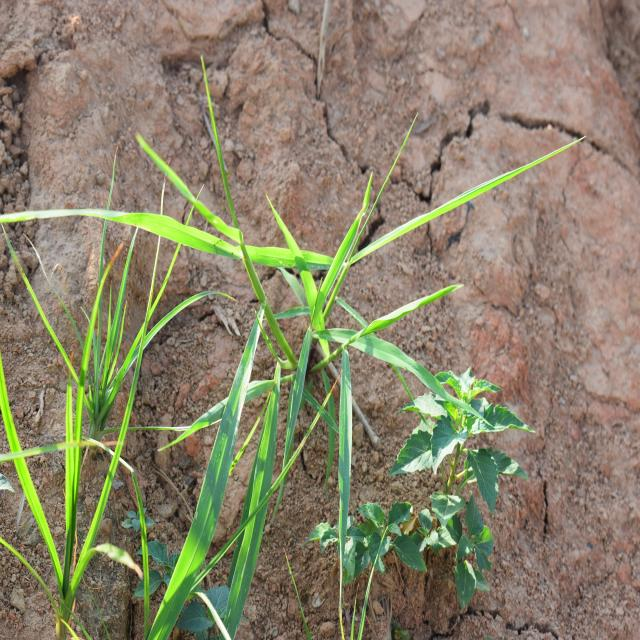green_foxtail: (173, 173, 373, 533)
